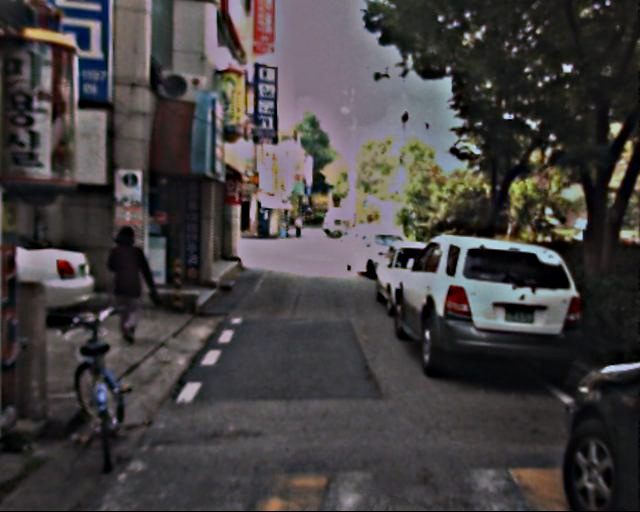person: (104, 219, 158, 344)
